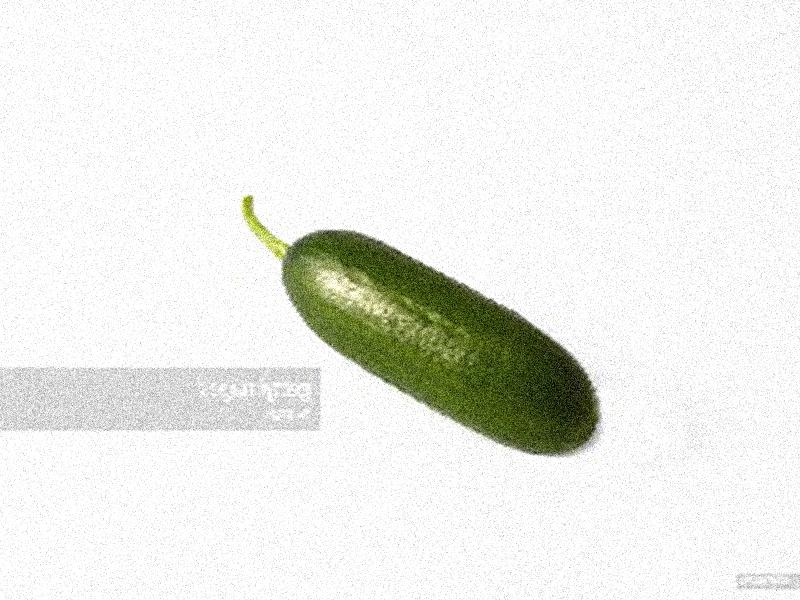Cucumber: (235, 198, 595, 457)
